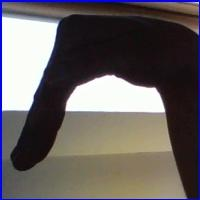A: (8, 10, 180, 176)
